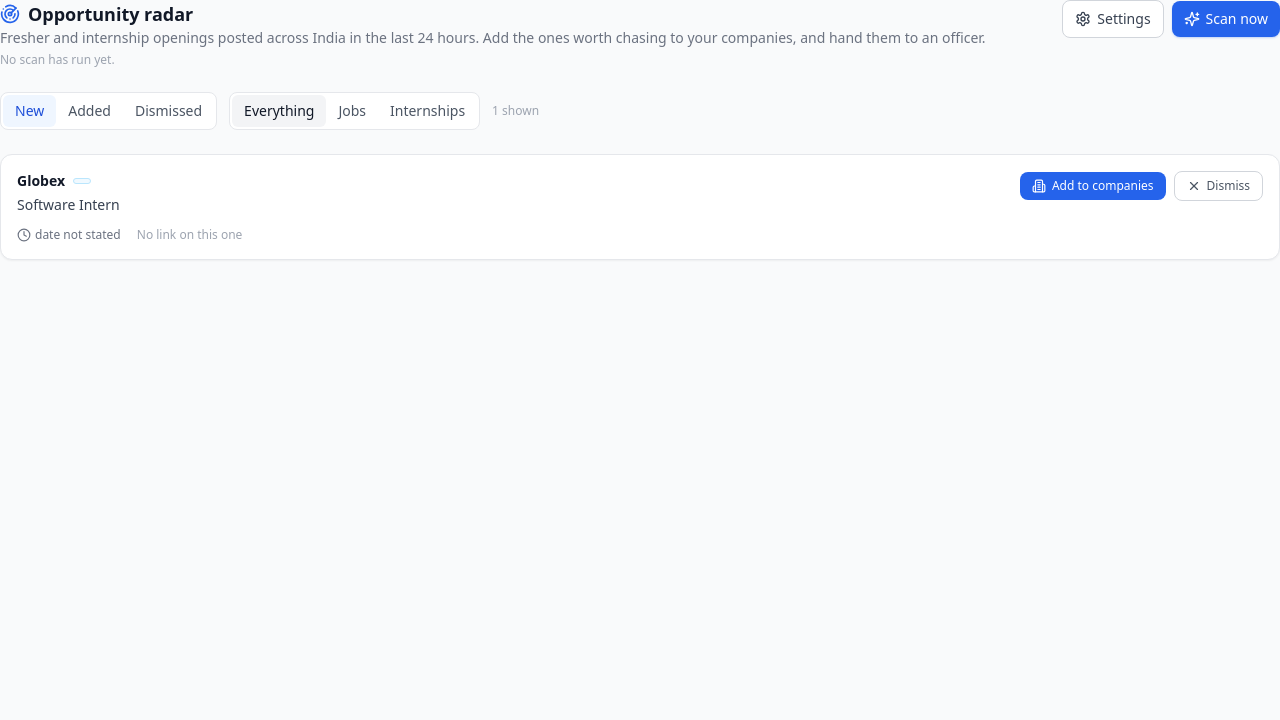
dismissing an opening › takes it out of the queue once confirmed
Expected: the heading "Globex" is shown, [17,171,65,191]
Click the button "Dismiss" at (1218, 186), box [1174,171,1263,201]
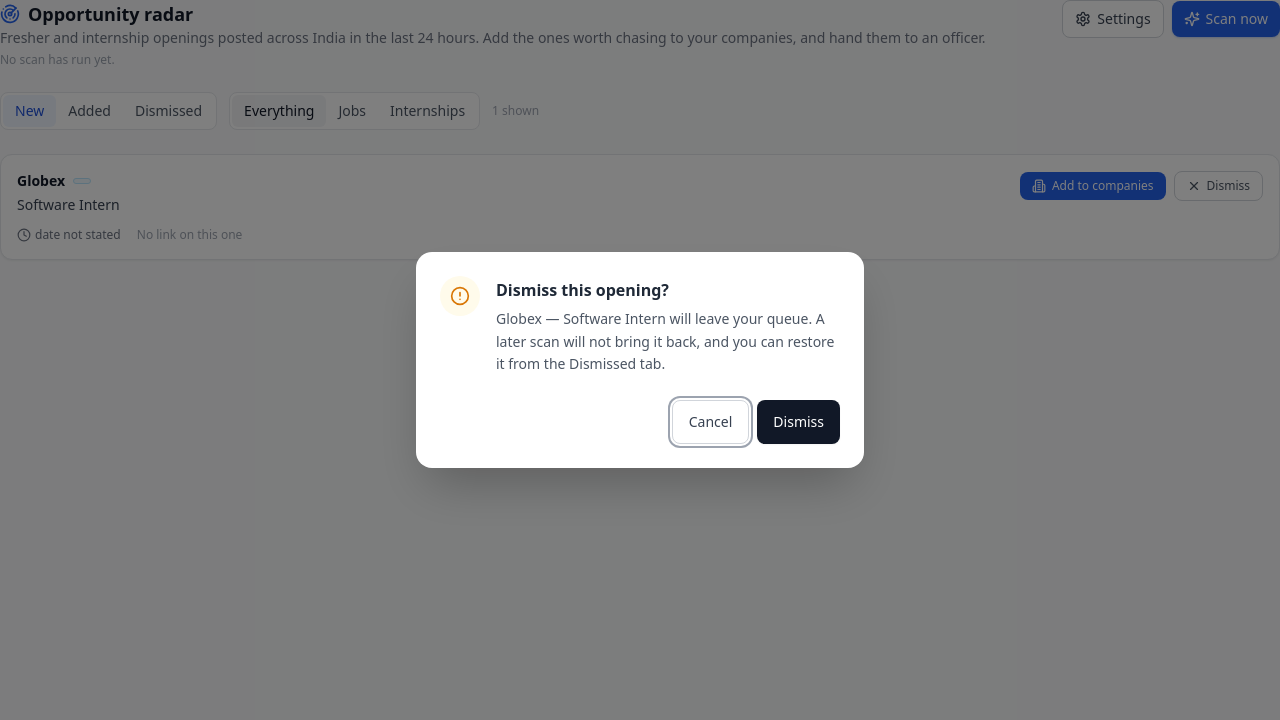
Click the button "Dismiss" at (799, 422), box [757,400,840,444]
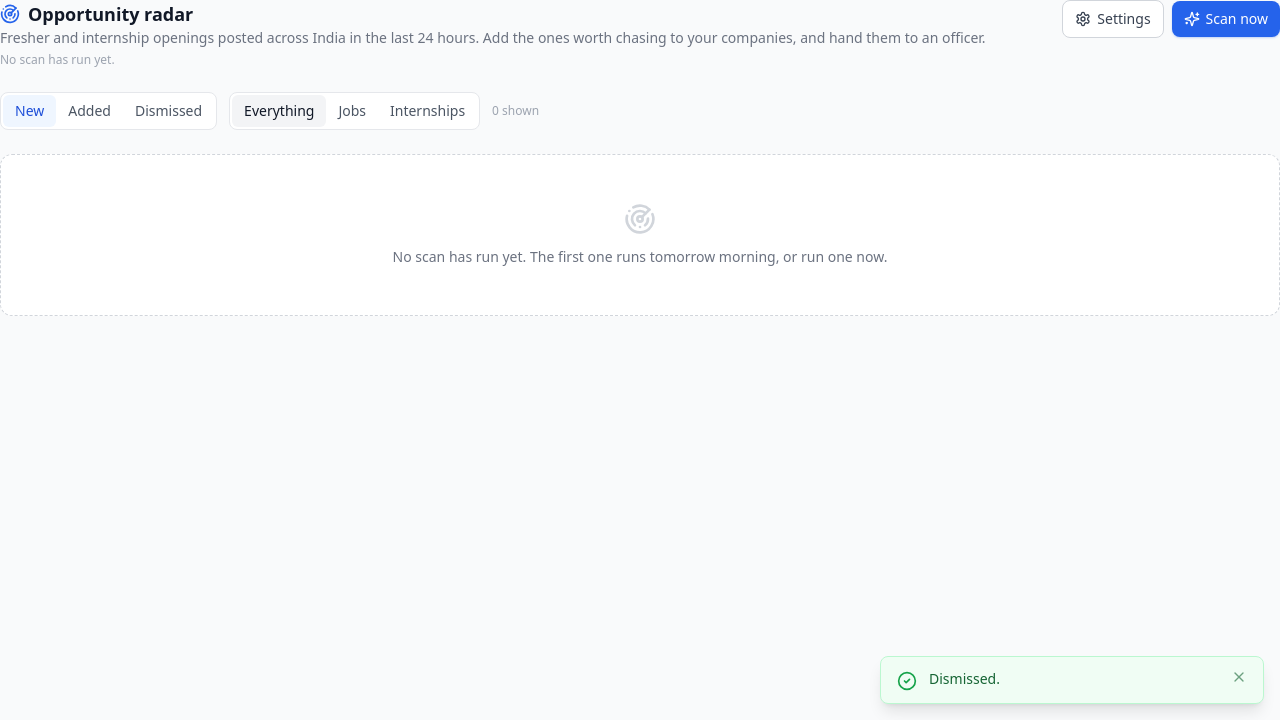
Now the text "Dismissed." is shown, box [929,669,1000,688]
